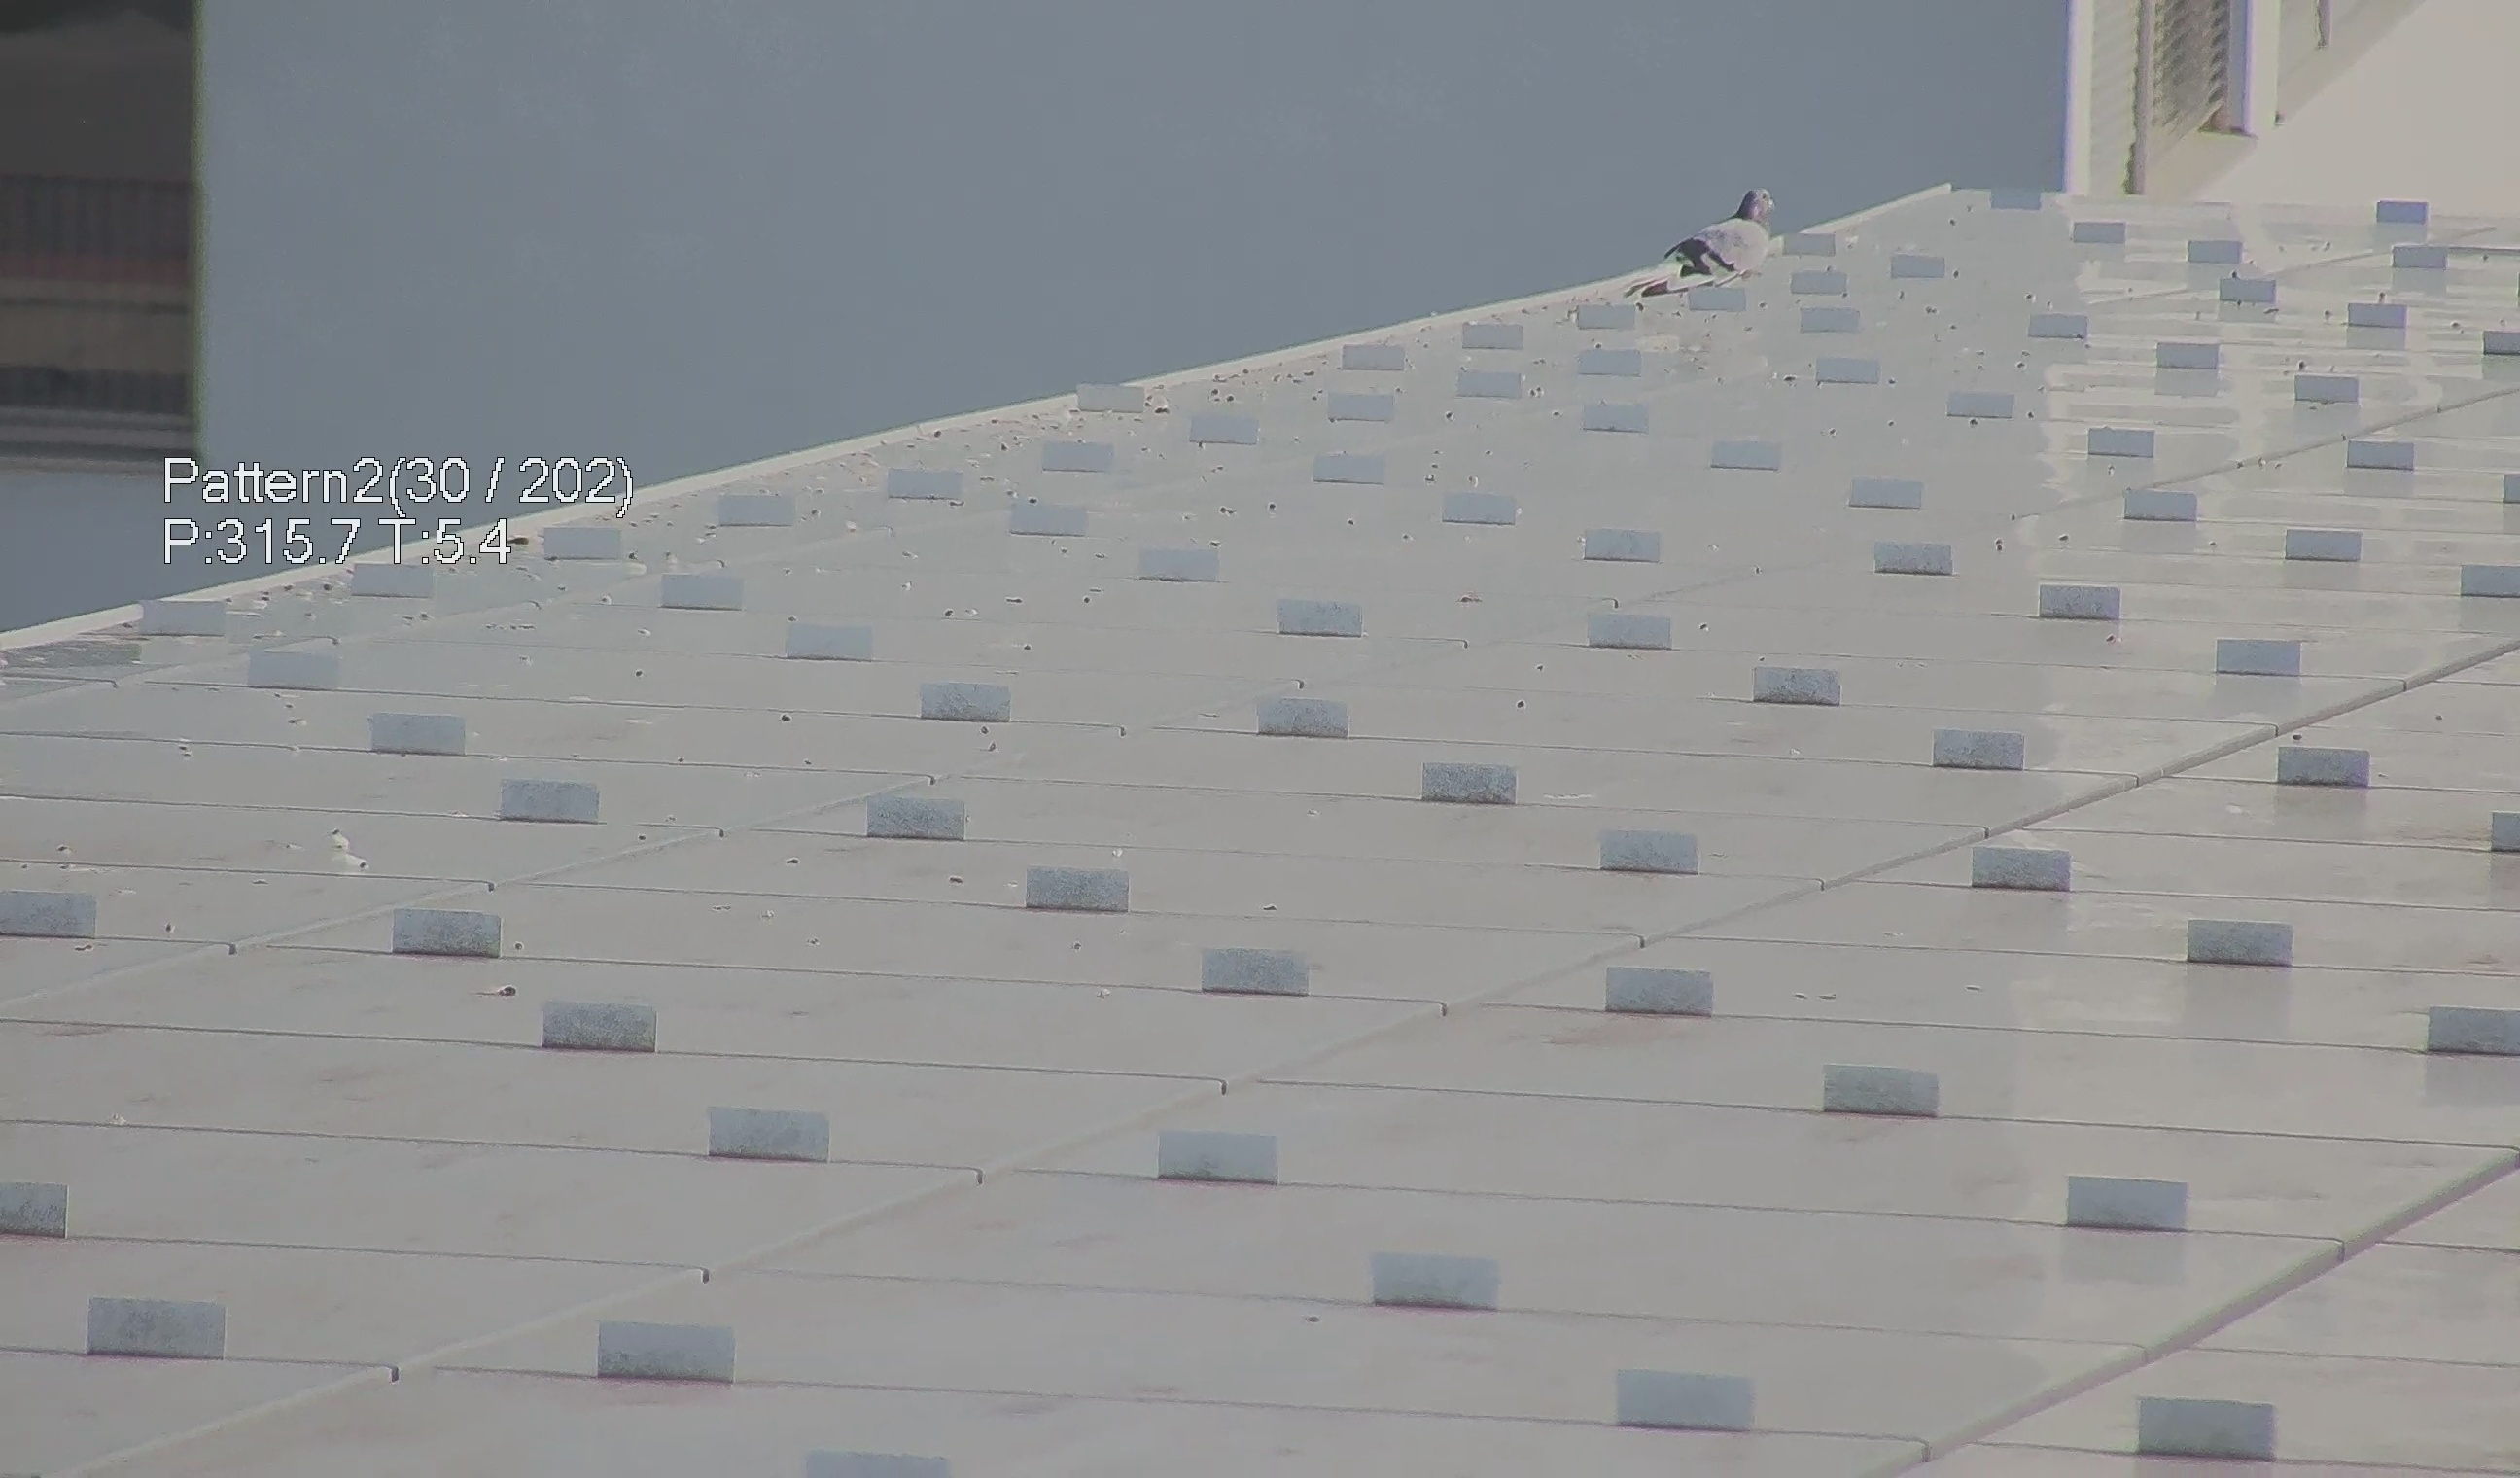Pigeon: (1639, 174, 1794, 294)
